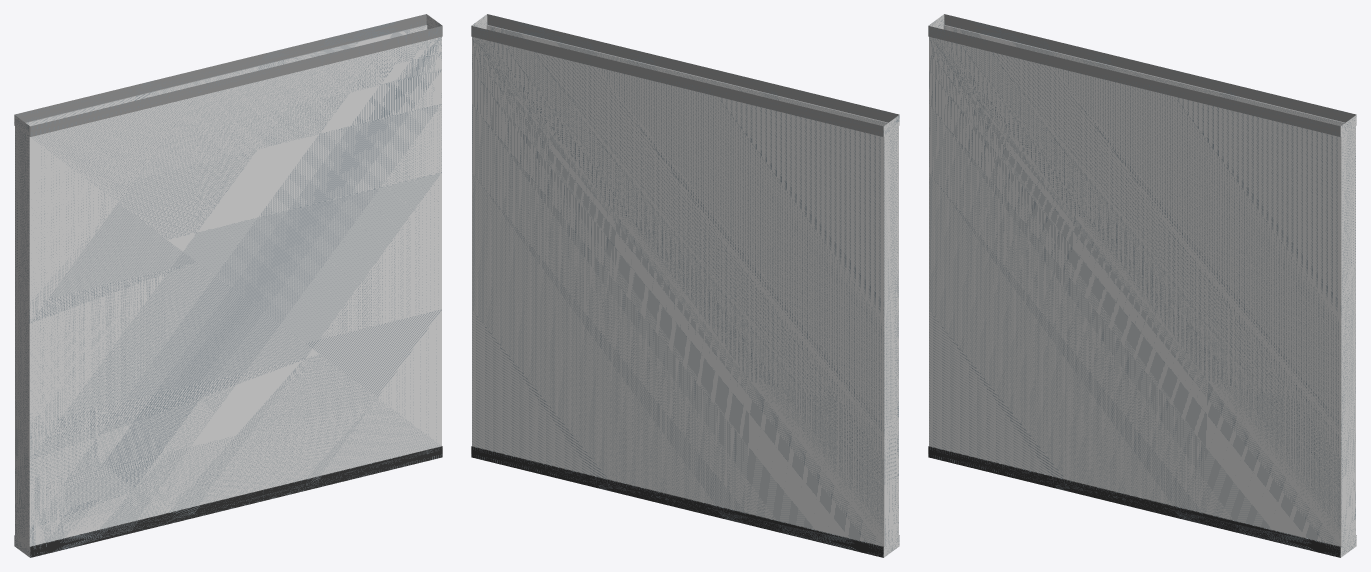
The model's file is BlockWall_ds_plinth_4x4x025.dae.
3 renders of one model, left to right at view 1: azimuth 30°, elevation 25°; view 2: azimuth 150°, elevation 25°; view 3: azimuth 330°, elevation 25°, orthographic.
Parts seen in each view (by area): view 1: group_0 (×4); view 2: group_0 (×4); view 3: group_0 (×4).
Boxes of the visible parts, x1,y1,x2,y2 form: group_0 (×4): (14,14,442,557); group_0 (×4): (471,14,899,557); group_0 (×4): (928,14,1356,557).
Bounding box in the file's own units: 157 × 10.63 × 157.
